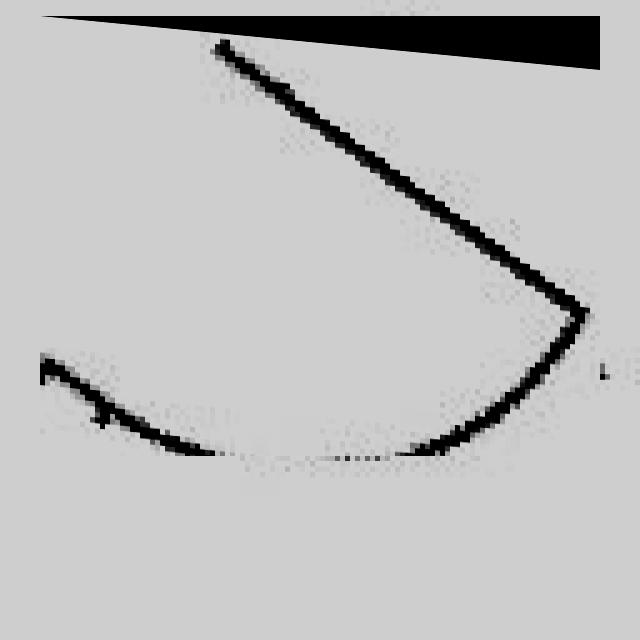door: (40, 16, 600, 456)
